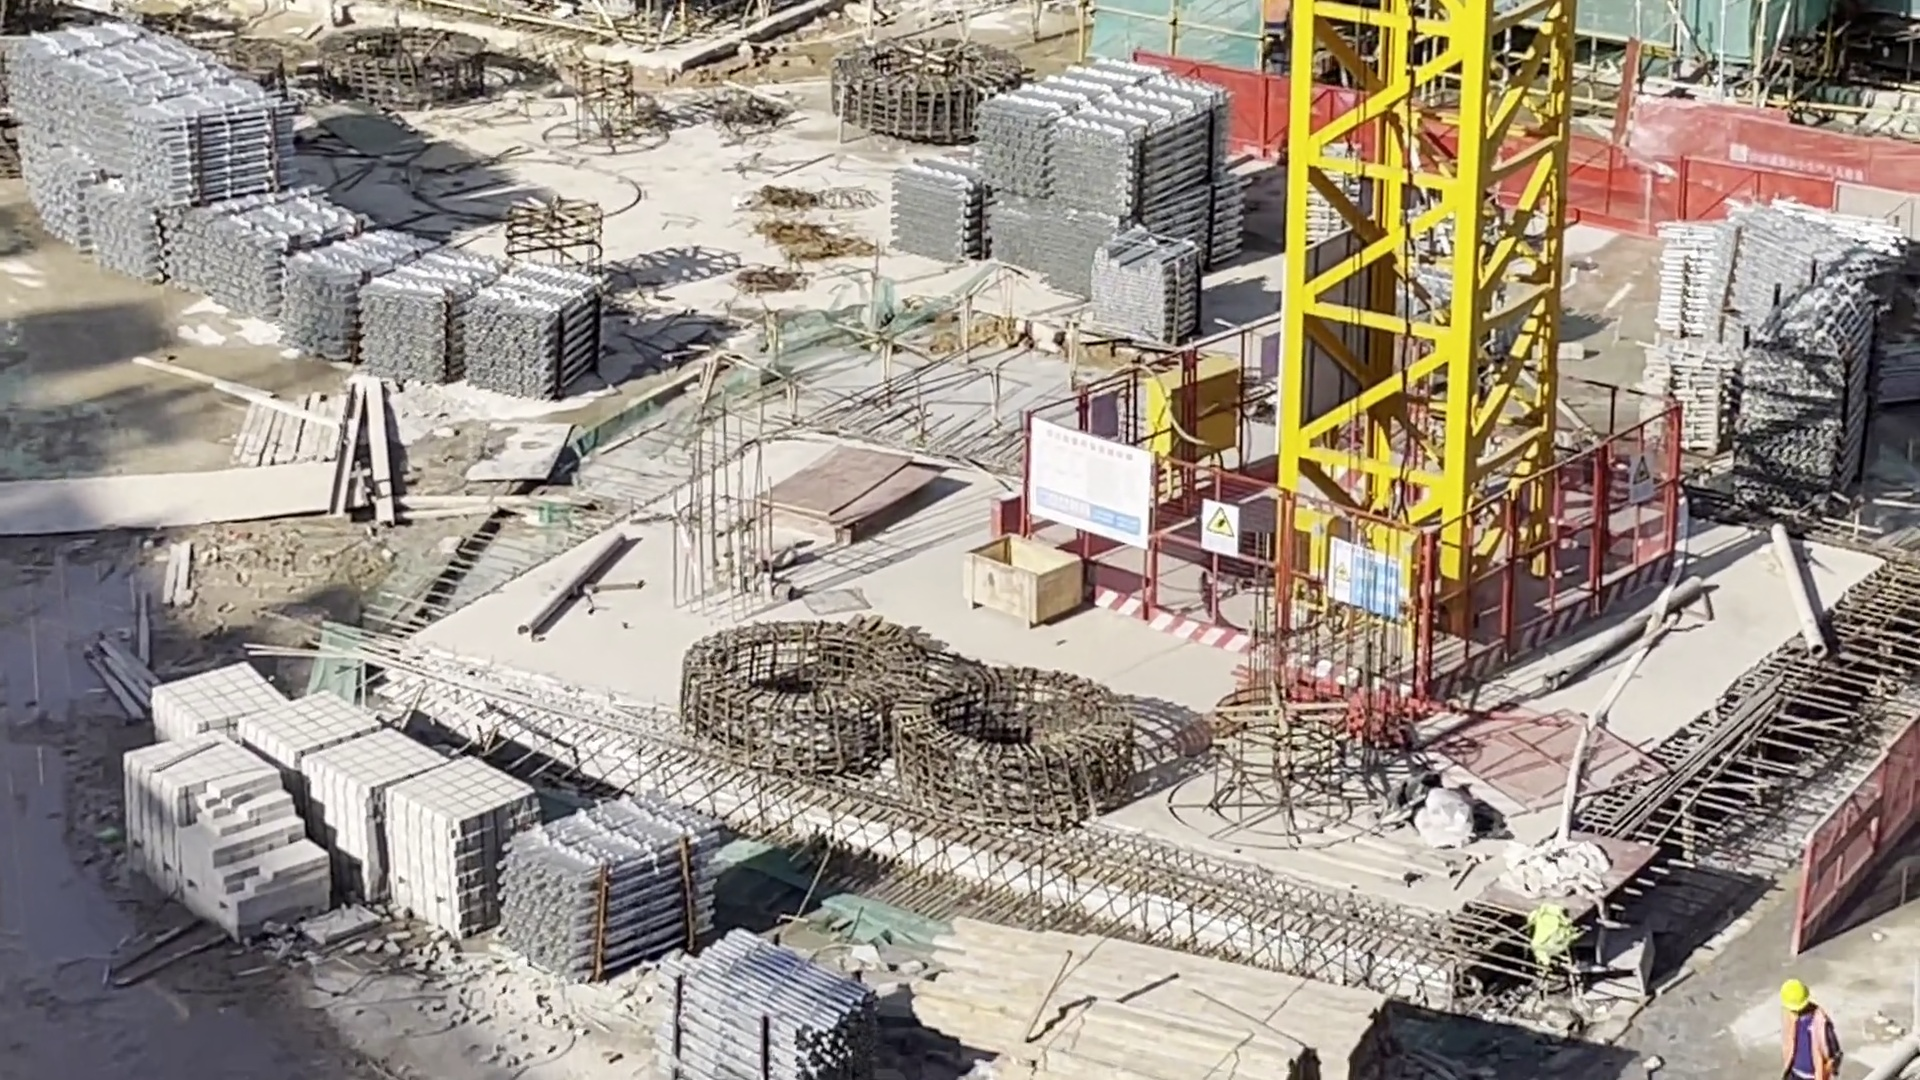board: (769, 453, 931, 541)
brick: (138, 670, 506, 924)
ebox: (1148, 357, 1235, 473)
fence: (1574, 123, 1920, 225), (1797, 715, 1920, 933)
helmet: (1781, 977, 1811, 1011)
person: (1765, 979, 1839, 1080)
scaffold: (11, 30, 289, 281), (1655, 203, 1870, 481), (986, 62, 1239, 288), (361, 254, 602, 397), (508, 800, 715, 965), (658, 933, 874, 1080), (288, 229, 433, 358), (213, 199, 361, 316), (1096, 230, 1197, 343), (893, 145, 979, 257)
slogan: (1332, 542, 1401, 619), (1201, 503, 1238, 551), (1631, 457, 1652, 501)
vest: (1788, 1010, 1836, 1073)
wood: (927, 922, 1373, 1080)
